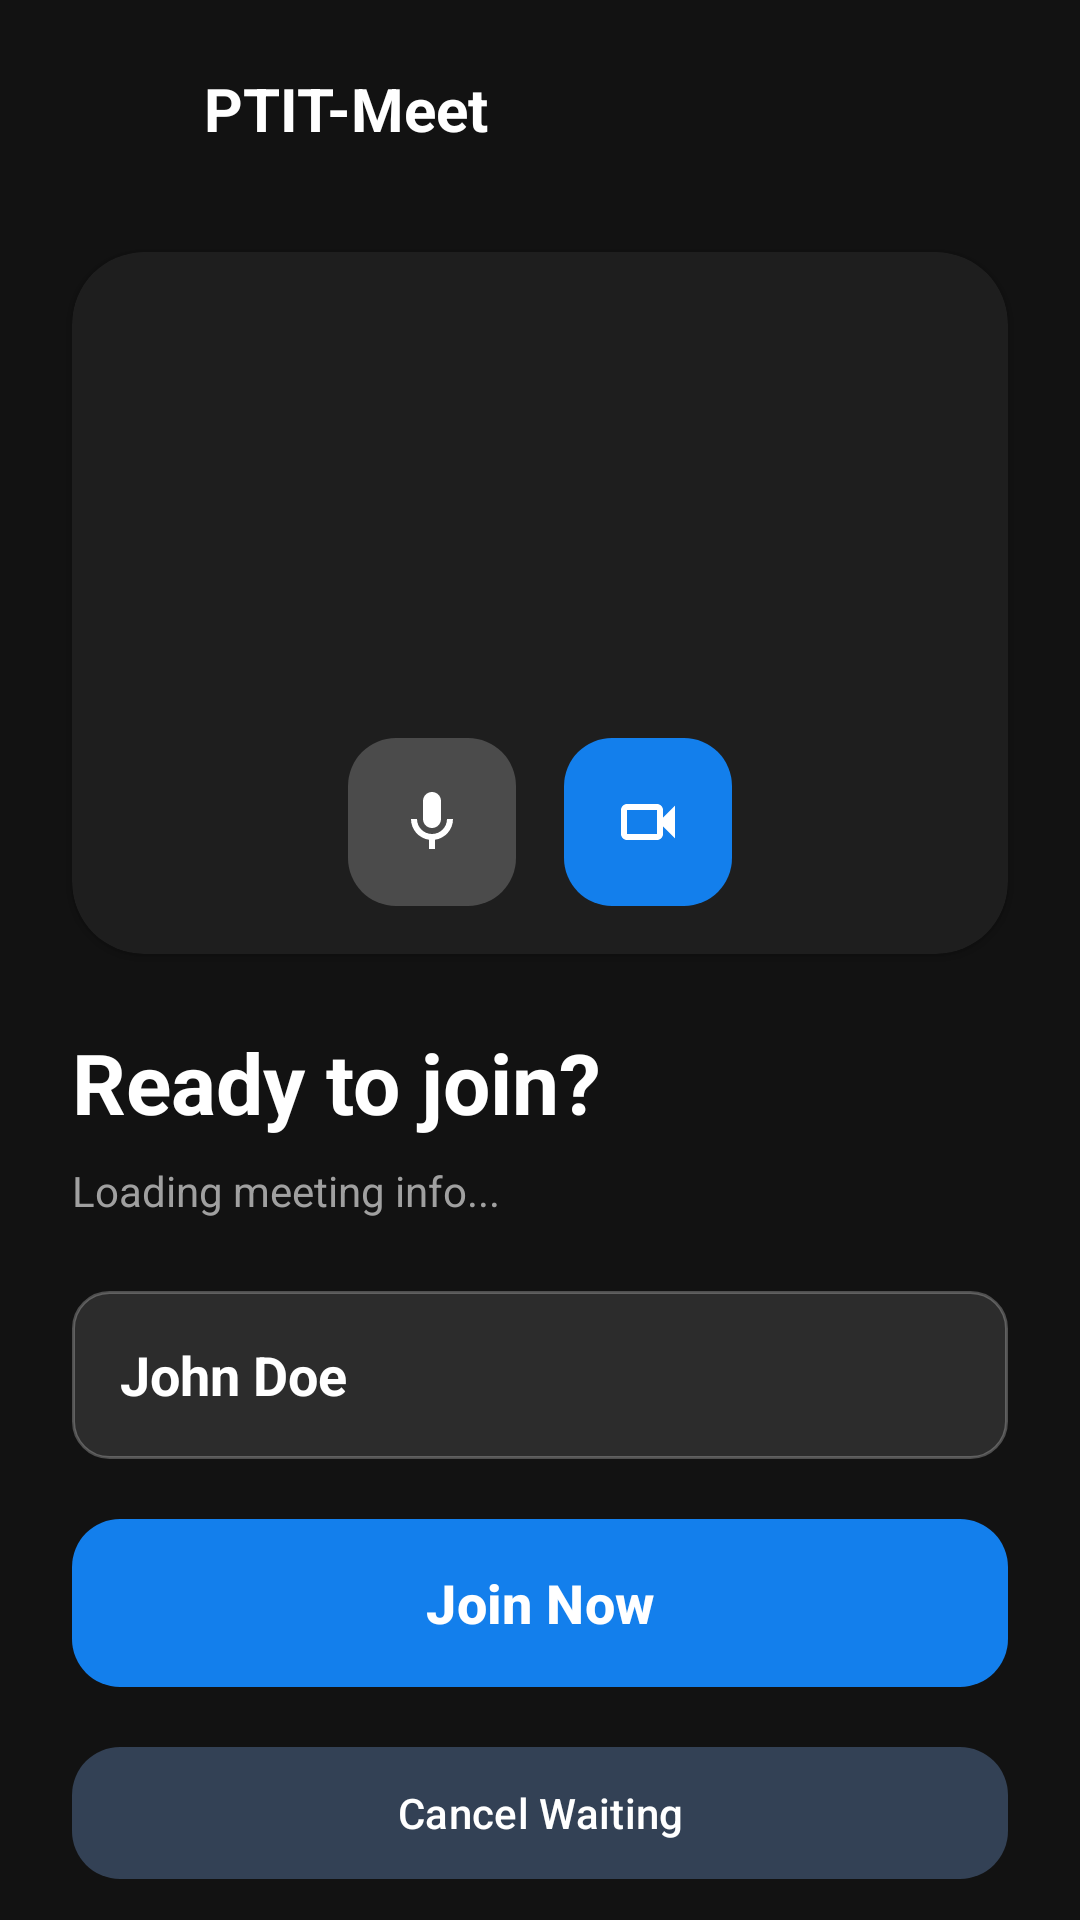

Screen size 1080 × 1920. Icon name, then its center in pixels as [x,y]:
mic: [432,822]
videocam: [648,822]
